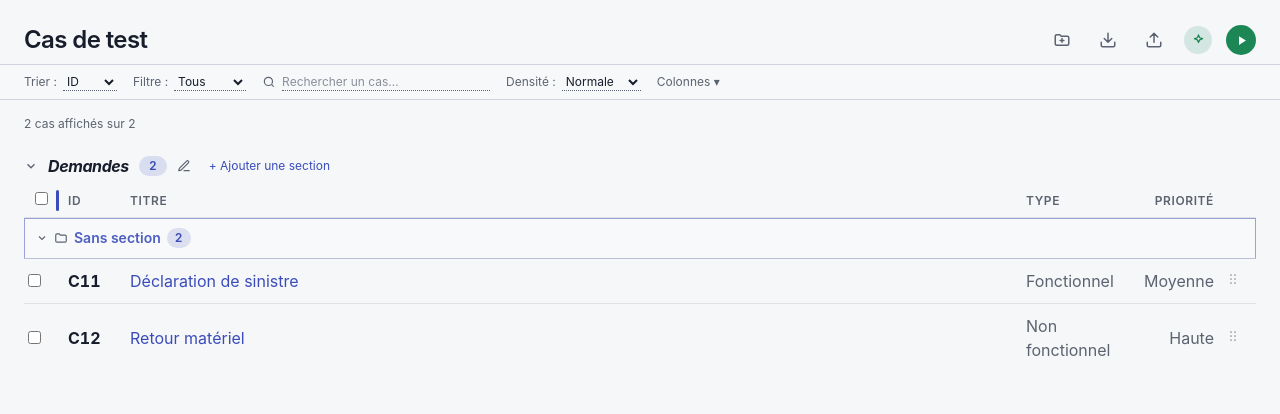
Test: la sélection › vide la sélection quand la recherche change
Garder des cases cochées devenues invisibles ferait agir sur ce qu'on ne voit plus.
Click the checkbox named "Sélectionner Déclaration de sinistre" at (34,280), box [28,274,41,287]
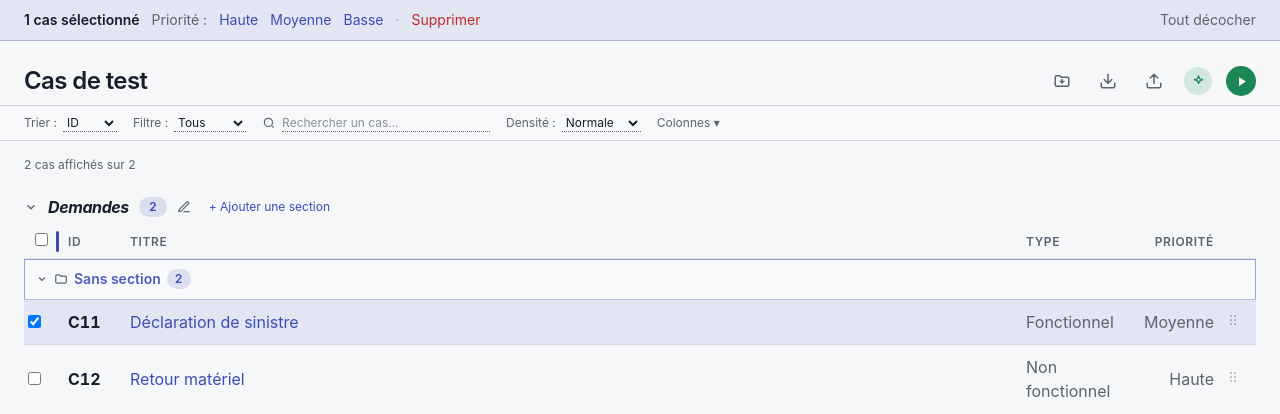
Now the text "1 cas sélectionné" is shown, box [24,10,140,30]
Type "rien" into the search field with placeholder "Rechercher un cas…" at (386,123), box [282,114,490,132]
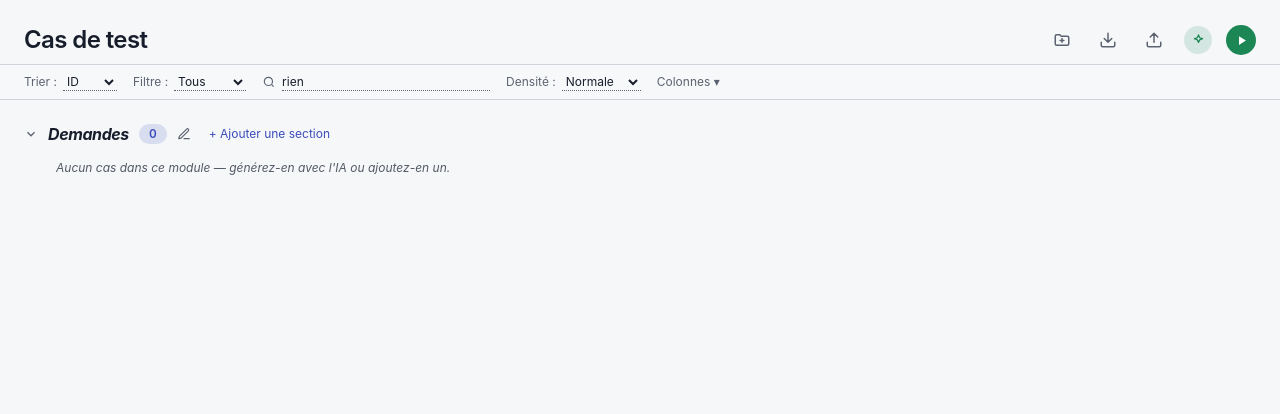
Now the text "cas sélectionné" is gone
